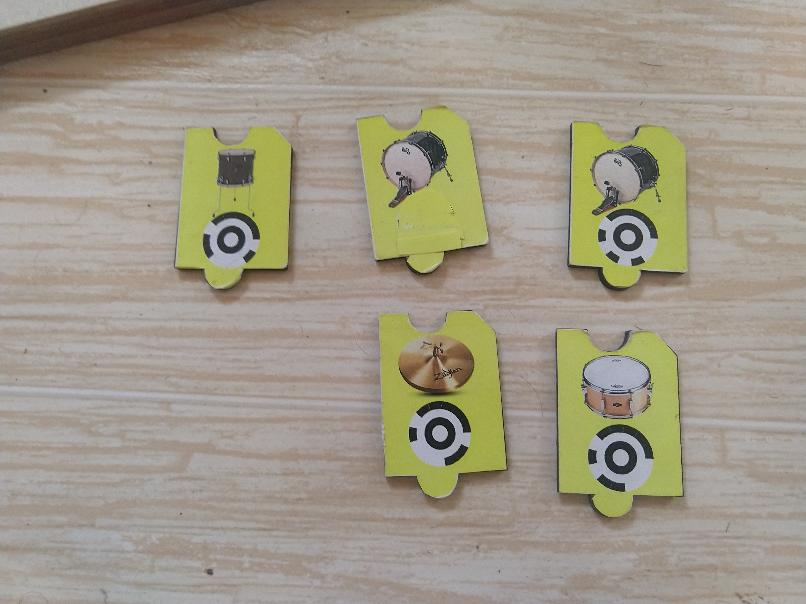bumbo: (564, 113, 693, 299), (356, 102, 490, 281)
